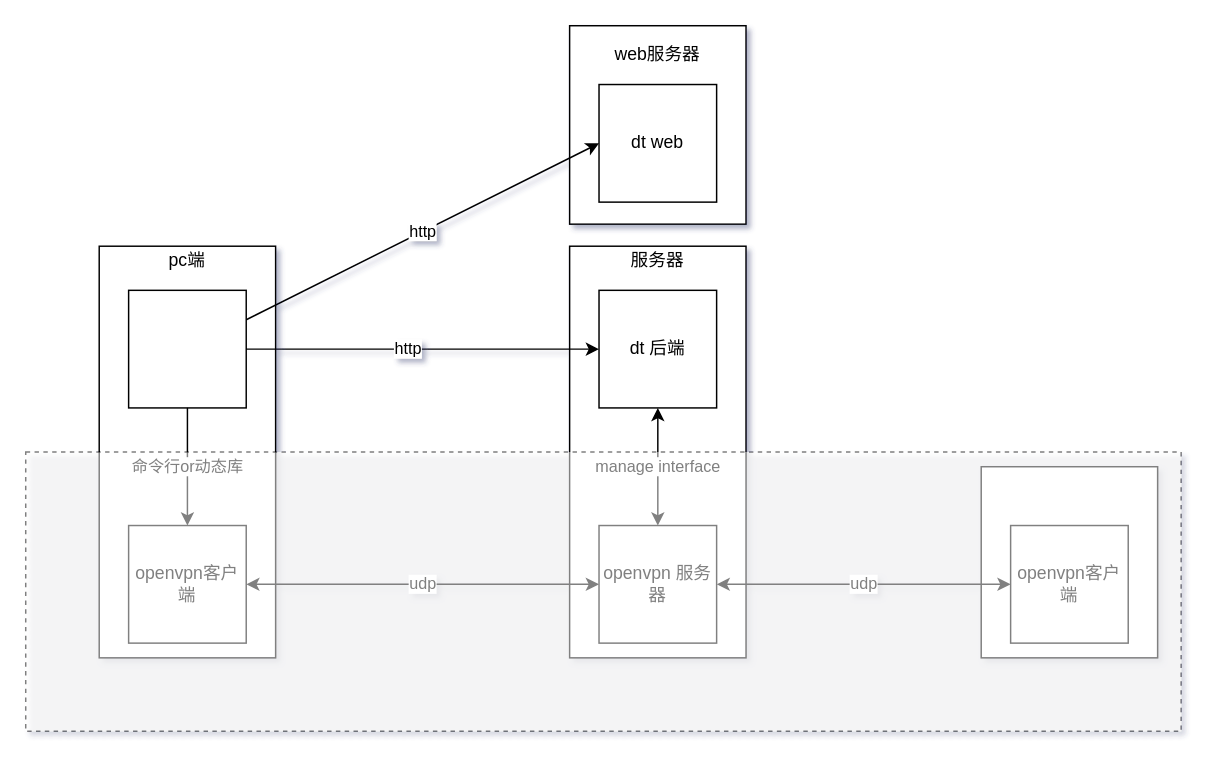
Some shapes in this 1216 by 766 pixel diagram are drawn without their labels. Each missing label, with the centre of its shape:
dt客户端: the point at 186,348
虚拟网络: the point at 602,591
